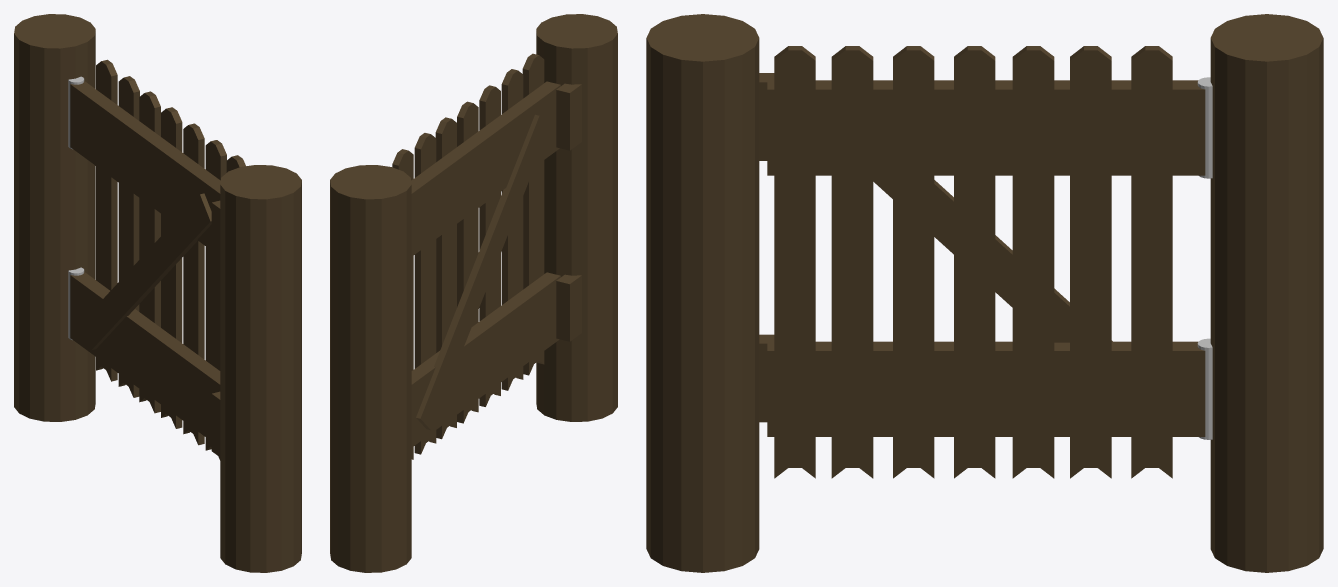
Rendered from Fences.fbx.
3 views of the same model, side by side, from view 1: azimuth 30°, elevation 25°; view 2: azimuth 150°, elevation 25°; view 3: azimuth 270°, elevation 25° (orthographic). The views are drawn at different scales.
Parts seen in each view (by area): view 1: Post1, post2, TopRail, Bottom Rail, SupportPost, Picket.008, Picket.001, Picket.009, Picket, Picket.010, Picket.002, Stop (+1 smaller); view 2: post2, Post1, TopRail, Bottom Rail, SupportPost, Picket.009, Picket.003, Picket.010, Picket.002, Picket, Picket.001, Stop (+2 smaller); view 3: Post1, post2, Picket.002, Picket.010, Picket.001, Picket.003, Picket.009, Picket.008, Picket, TopRail, Bottom Rail, SupportPost (+4 smaller).
Boxes of the visible parts, bbox=[...] form: Post1: bbox=[220, 165, 301, 572]; post2: bbox=[14, 14, 95, 421]; TopRail: bbox=[70, 81, 220, 250]; Bottom Rail: bbox=[70, 272, 220, 441]; SupportPost: bbox=[81, 193, 211, 350]; Picket.008: bbox=[96, 59, 117, 381]; Picket.001: bbox=[183, 123, 204, 445]; Picket.009: bbox=[118, 76, 139, 397]; Picket: bbox=[161, 107, 182, 428]; Picket.010: bbox=[139, 91, 160, 413]; Picket.002: bbox=[205, 140, 226, 460]; Stop: bbox=[211, 200, 220, 265]; post2: bbox=[330, 165, 411, 572]; Post1: bbox=[536, 14, 617, 421]; TopRail: bbox=[411, 81, 560, 256]; Bottom Rail: bbox=[411, 272, 560, 447]; SupportPost: bbox=[416, 114, 549, 430]; Picket.009: bbox=[414, 133, 436, 454]; Picket.003: bbox=[522, 53, 544, 375]; Picket.010: bbox=[435, 117, 456, 439]; Picket.002: bbox=[501, 69, 523, 390]; Picket: bbox=[457, 101, 478, 423]; Picket.001: bbox=[479, 85, 500, 406]; Stop: bbox=[556, 83, 581, 150]; Post1: bbox=[646, 14, 759, 572]; post2: bbox=[1210, 14, 1323, 572]; Picket.002: bbox=[831, 46, 873, 478]; Picket.010: bbox=[1012, 46, 1054, 478]; Picket.001: bbox=[893, 46, 934, 478]; Picket.003: bbox=[774, 46, 815, 478]; Picket.009: bbox=[1070, 46, 1111, 478]; Picket.008: bbox=[1131, 46, 1172, 478]; Picket: bbox=[954, 46, 995, 478]; TopRail: bbox=[767, 80, 1205, 175]; Bottom Rail: bbox=[767, 341, 1205, 436]; SupportPost: bbox=[873, 175, 1112, 342].
Size of the model in its own units: 20 by 100 by 120.
